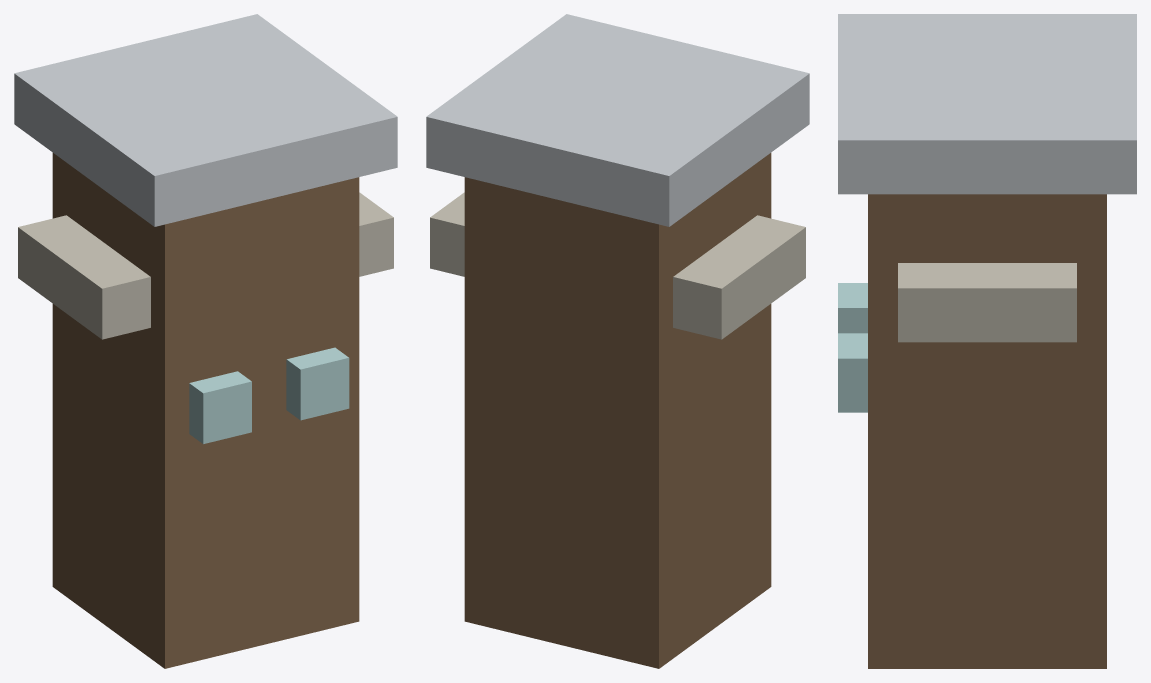
Rendered from artifact_frost_troll_totem.glb.
3 views of the same model, side by side, from view 1: azimuth 30°, elevation 25°; view 2: azimuth 150°, elevation 25°; view 3: azimuth 270°, elevation 25° (orthographic). The views are drawn at different scales.
Visible parts, largest first — view 1: artifact_frost_troll_totem; view 2: artifact_frost_troll_totem; view 3: artifact_frost_troll_totem.
Part boxes in pixels (<box>): artifact_frost_troll_totem: <box>14,14,397,668</box>; artifact_frost_troll_totem: <box>426,14,809,668</box>; artifact_frost_troll_totem: <box>838,14,1136,668</box>.
Bounding box in the file's own units: 0.144 × 0.24 × 0.12.
